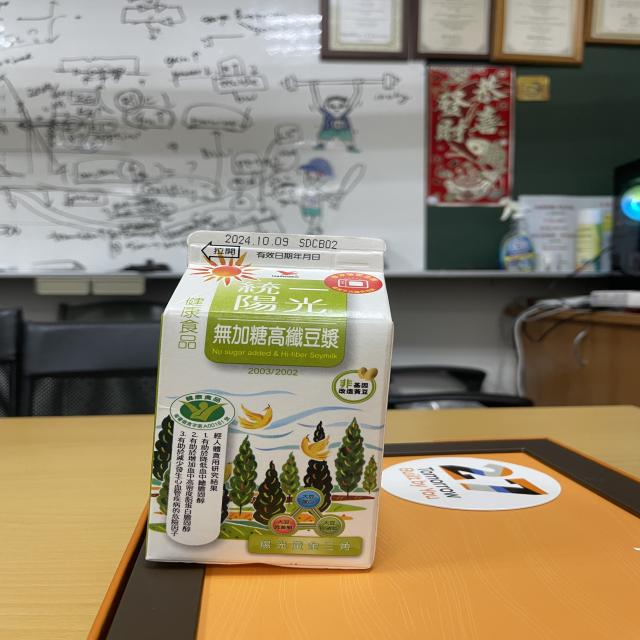TongYi_UnsweetenedHighFiberSoyMilk: (138, 223, 388, 572)
